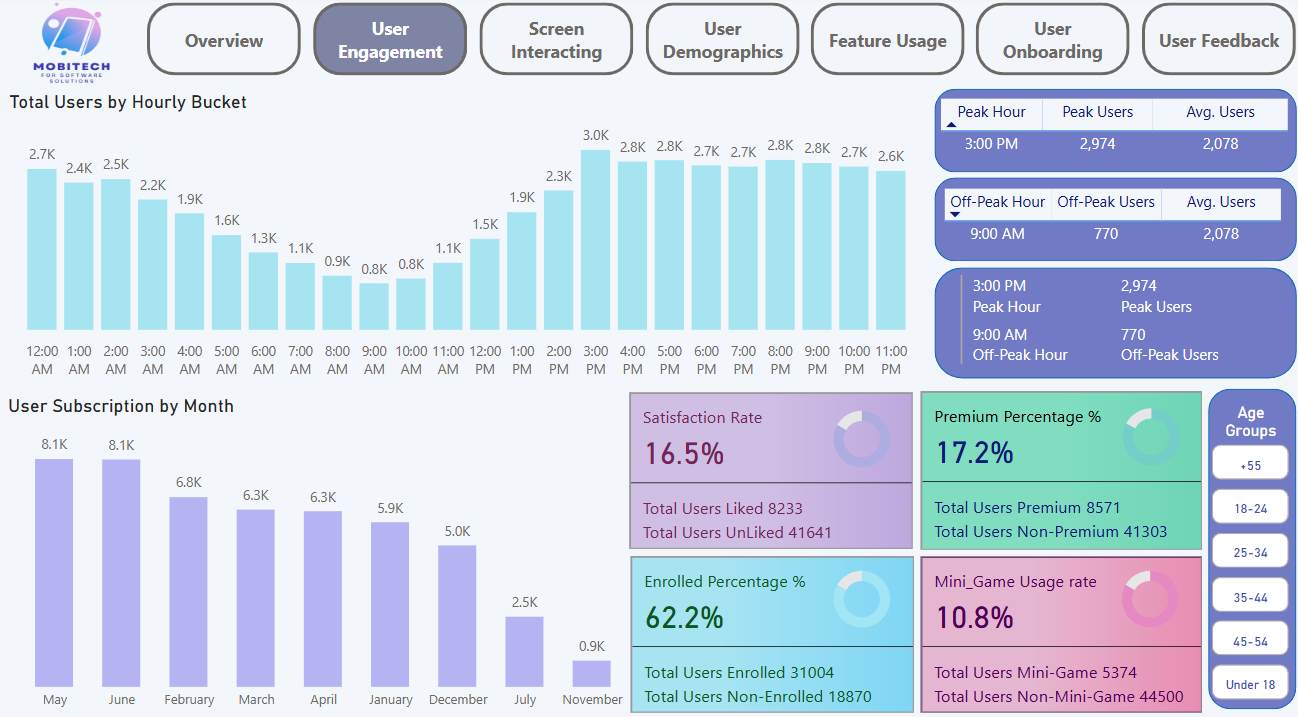

Layout of this report page (visuals, bound fields, positions):
{"tool":"powerbi","page":{"name":"User Engagement","canvas":[1280,720],"ordinal":4},"visuals":[{"type":"shape","box":[898.8,91.7,373,81.9],"z":0,"group":"g6"},{"type":"clusteredColumnChart","title":"Total Users by Hourly Bucket","fields":{"Category":["appdata10.Time Bucket"],"Y":["Total.Distinct Users Per Hour"]},"box":[7.3,94.2,901.2,288.6],"z":0},{"type":"cardVisual","fields":{"Data":["Total.Premium Percentage %"]},"box":[898.4,382.2,285.3,165.1],"z":0,"group":"g7"},{"type":"cardVisual","fields":{"Data":["Total.Satisfaction Rate"]},"box":[614.2,383.4,288,163.8],"z":0,"group":"g10"},{"type":"shape","box":[1193,391.3,86.1,313.6],"z":0,"group":"g1"},{"type":"cardVisual","fields":{"Data":["Total.Enrolled Percentage %"]},"box":[614.5,544.2,288,163.8],"z":0,"group":"g8"},{"type":"cardVisual","fields":{"Data":["Total.Mini_Game Usage rate"]},"box":[898.5,544.2,285.3,163.8],"z":0,"group":"g9"},{"type":"clusteredColumnChart","title":"User Subscription by Month","fields":{"Y":["Total.Total Users"],"Category":["appdata10.Month of First Visit"]},"box":[6.1,391.3,627.3,316.7],"z":1000},{"type":"advancedSlicerVisual","fields":{"Values":["appdata10.Age Groups"]},"box":[1192.3,405.8,85.8,297.7],"z":1000,"group":"g1"},{"type":"group","id":"g1","title":"Group 1","box":[1192.3,391.3,86.8,313],"z":2000},{"type":"group","id":"g2","title":"Group 2","box":[614.2,383.4,288,163.8],"z":3000},{"type":"group","id":"g3","title":"Group 5","box":[614.5,544.2,288,163.8],"z":4000},{"type":"group","id":"g4","title":"Group 6","box":[898.5,544.2,285.3,163.8],"z":5000},{"type":"group","id":"g5","title":"Group 7","box":[898.4,382.2,285.3,165.1],"z":6000},{"type":"group","id":"g6","title":"Group 8","box":[891,91.7,387.6,109.2],"z":7000},{"type":"actionButton","box":[634.1,7.9,150.6,71.3],"z":8000},{"type":"actionButton","box":[309.1,7.9,150.6,71.3],"z":9000},{"type":"actionButton","box":[471.6,7.9,150.6,71.3],"z":10000},{"type":"tableEx","fields":{"Values":["Total.Peak Hour.","Total.peak users.","Total.Off-peak Users","Total.Off-peak Hour"]},"box":[891,94.5,387.6,106.4],"z":10000,"group":"g6"},{"type":"actionButton","box":[146.6,7.9,150.6,71.3],"z":11000},{"type":"group","id":"g7","title":"Group 1","box":[898.4,382.2,285.3,165.1],"z":11000,"group":"g5"},{"type":"actionButton","box":[796.5,7.9,150.6,71.3],"z":12000},{"type":"group","id":"g8","title":"Group 1","box":[614.5,544.2,288,163.8],"z":12000,"group":"g3"},{"type":"actionButton","box":[957.7,7.9,150.6,71.3],"z":13000},{"type":"group","id":"g9","title":"Group 1","box":[898.5,544.2,285.3,163.8],"z":13000,"group":"g4"},{"type":"actionButton","box":[1120.2,7.9,150.6,71.3],"z":14000},{"type":"group","id":"g10","title":"Group 1","box":[614.2,383.4,288,163.8],"z":14000,"group":"g2"},{"type":"image","box":[22,0,101.5,96.6],"z":15000},{"type":"pieChart","title":"Users by Performance Segment","fields":{"Category":["CustomerUsage.PerformanceSegment"],"Y":["CountNonNull(appdata10.User ID)"]},"box":[902.4,208.5,377.4,173.8],"z":16000},{"type":"donutChart","fields":{"Category":["appdata10.Premium Groups"],"Y":["Total.Total Users"]},"box":[1083.8,392.4,89.7,80],"z":18000,"group":"g5"},{"type":"donutChart","fields":{"Category":["appdata10.Satisfaction Groups"],"Y":["Total.Total Users"]},"box":[801.3,394.7,90.5,79.4],"z":19000,"group":"g2"},{"type":"donutChart","fields":{"Category":["appdata10.Satisfaction Groups"],"Y":["Total.Total Users"]},"box":[800.4,551.8,90.5,79.4],"z":20000,"group":"g3"},{"type":"donutChart","fields":{"Category":["appdata10.Satisfaction Groups"],"Y":["Total.Total Users"]},"box":[1083.7,551.8,89.7,79.4],"z":21000,"group":"g4"}]}

Visuals, with their boxes in screenshot pixels (x1, y1, x2, y2), scaled from the page's 1280x720 canvas onto the 1298x717 screenshot:
shape: bbox=(911, 91, 1290, 173)
"Total Users by Hourly Bucket" clusteredColumnChart: bbox=(7, 94, 921, 381)
cardVisual - Total.Premium Percentage %: bbox=(911, 381, 1200, 545)
cardVisual - Total.Satisfaction Rate: bbox=(623, 382, 915, 545)
shape: bbox=(1210, 390, 1297, 702)
cardVisual - Total.Enrolled Percentage %: bbox=(623, 542, 915, 705)
cardVisual - Total.Mini_Game Usage rate: bbox=(911, 542, 1200, 705)
"User Subscription by Month" clusteredColumnChart: bbox=(6, 390, 642, 705)
advancedSlicerVisual - appdata10.Age Groups: bbox=(1209, 404, 1296, 701)
"Group 1" group: bbox=(1209, 390, 1297, 701)
"Group 2" group: bbox=(623, 382, 915, 545)
"Group 5" group: bbox=(623, 542, 915, 705)
"Group 6" group: bbox=(911, 542, 1200, 705)
"Group 7" group: bbox=(911, 381, 1200, 545)
"Group 8" group: bbox=(904, 91, 1297, 200)
actionButton: bbox=(643, 8, 796, 79)
actionButton: bbox=(313, 8, 466, 79)
actionButton: bbox=(478, 8, 631, 79)
tableEx - Total.Peak Hour. x Total.peak users.: bbox=(904, 94, 1297, 200)
actionButton: bbox=(149, 8, 301, 79)
"Group 1" group: bbox=(911, 381, 1200, 545)
actionButton: bbox=(808, 8, 960, 79)
"Group 1" group: bbox=(623, 542, 915, 705)
actionButton: bbox=(971, 8, 1124, 79)
"Group 1" group: bbox=(911, 542, 1200, 705)
actionButton: bbox=(1136, 8, 1289, 79)
"Group 1" group: bbox=(623, 382, 915, 545)
image: bbox=(22, 0, 125, 96)
"Users by Performance Segment" pieChart: bbox=(915, 208, 1297, 381)
donutChart - appdata10.Premium Groups x Total.Total Users: bbox=(1099, 391, 1190, 470)
donutChart - appdata10.Satisfaction Groups x Total.Total Users: bbox=(813, 393, 904, 472)
donutChart - appdata10.Satisfaction Groups x Total.Total Users: bbox=(812, 550, 903, 629)
donutChart - appdata10.Satisfaction Groups x Total.Total Users: bbox=(1099, 550, 1190, 629)
